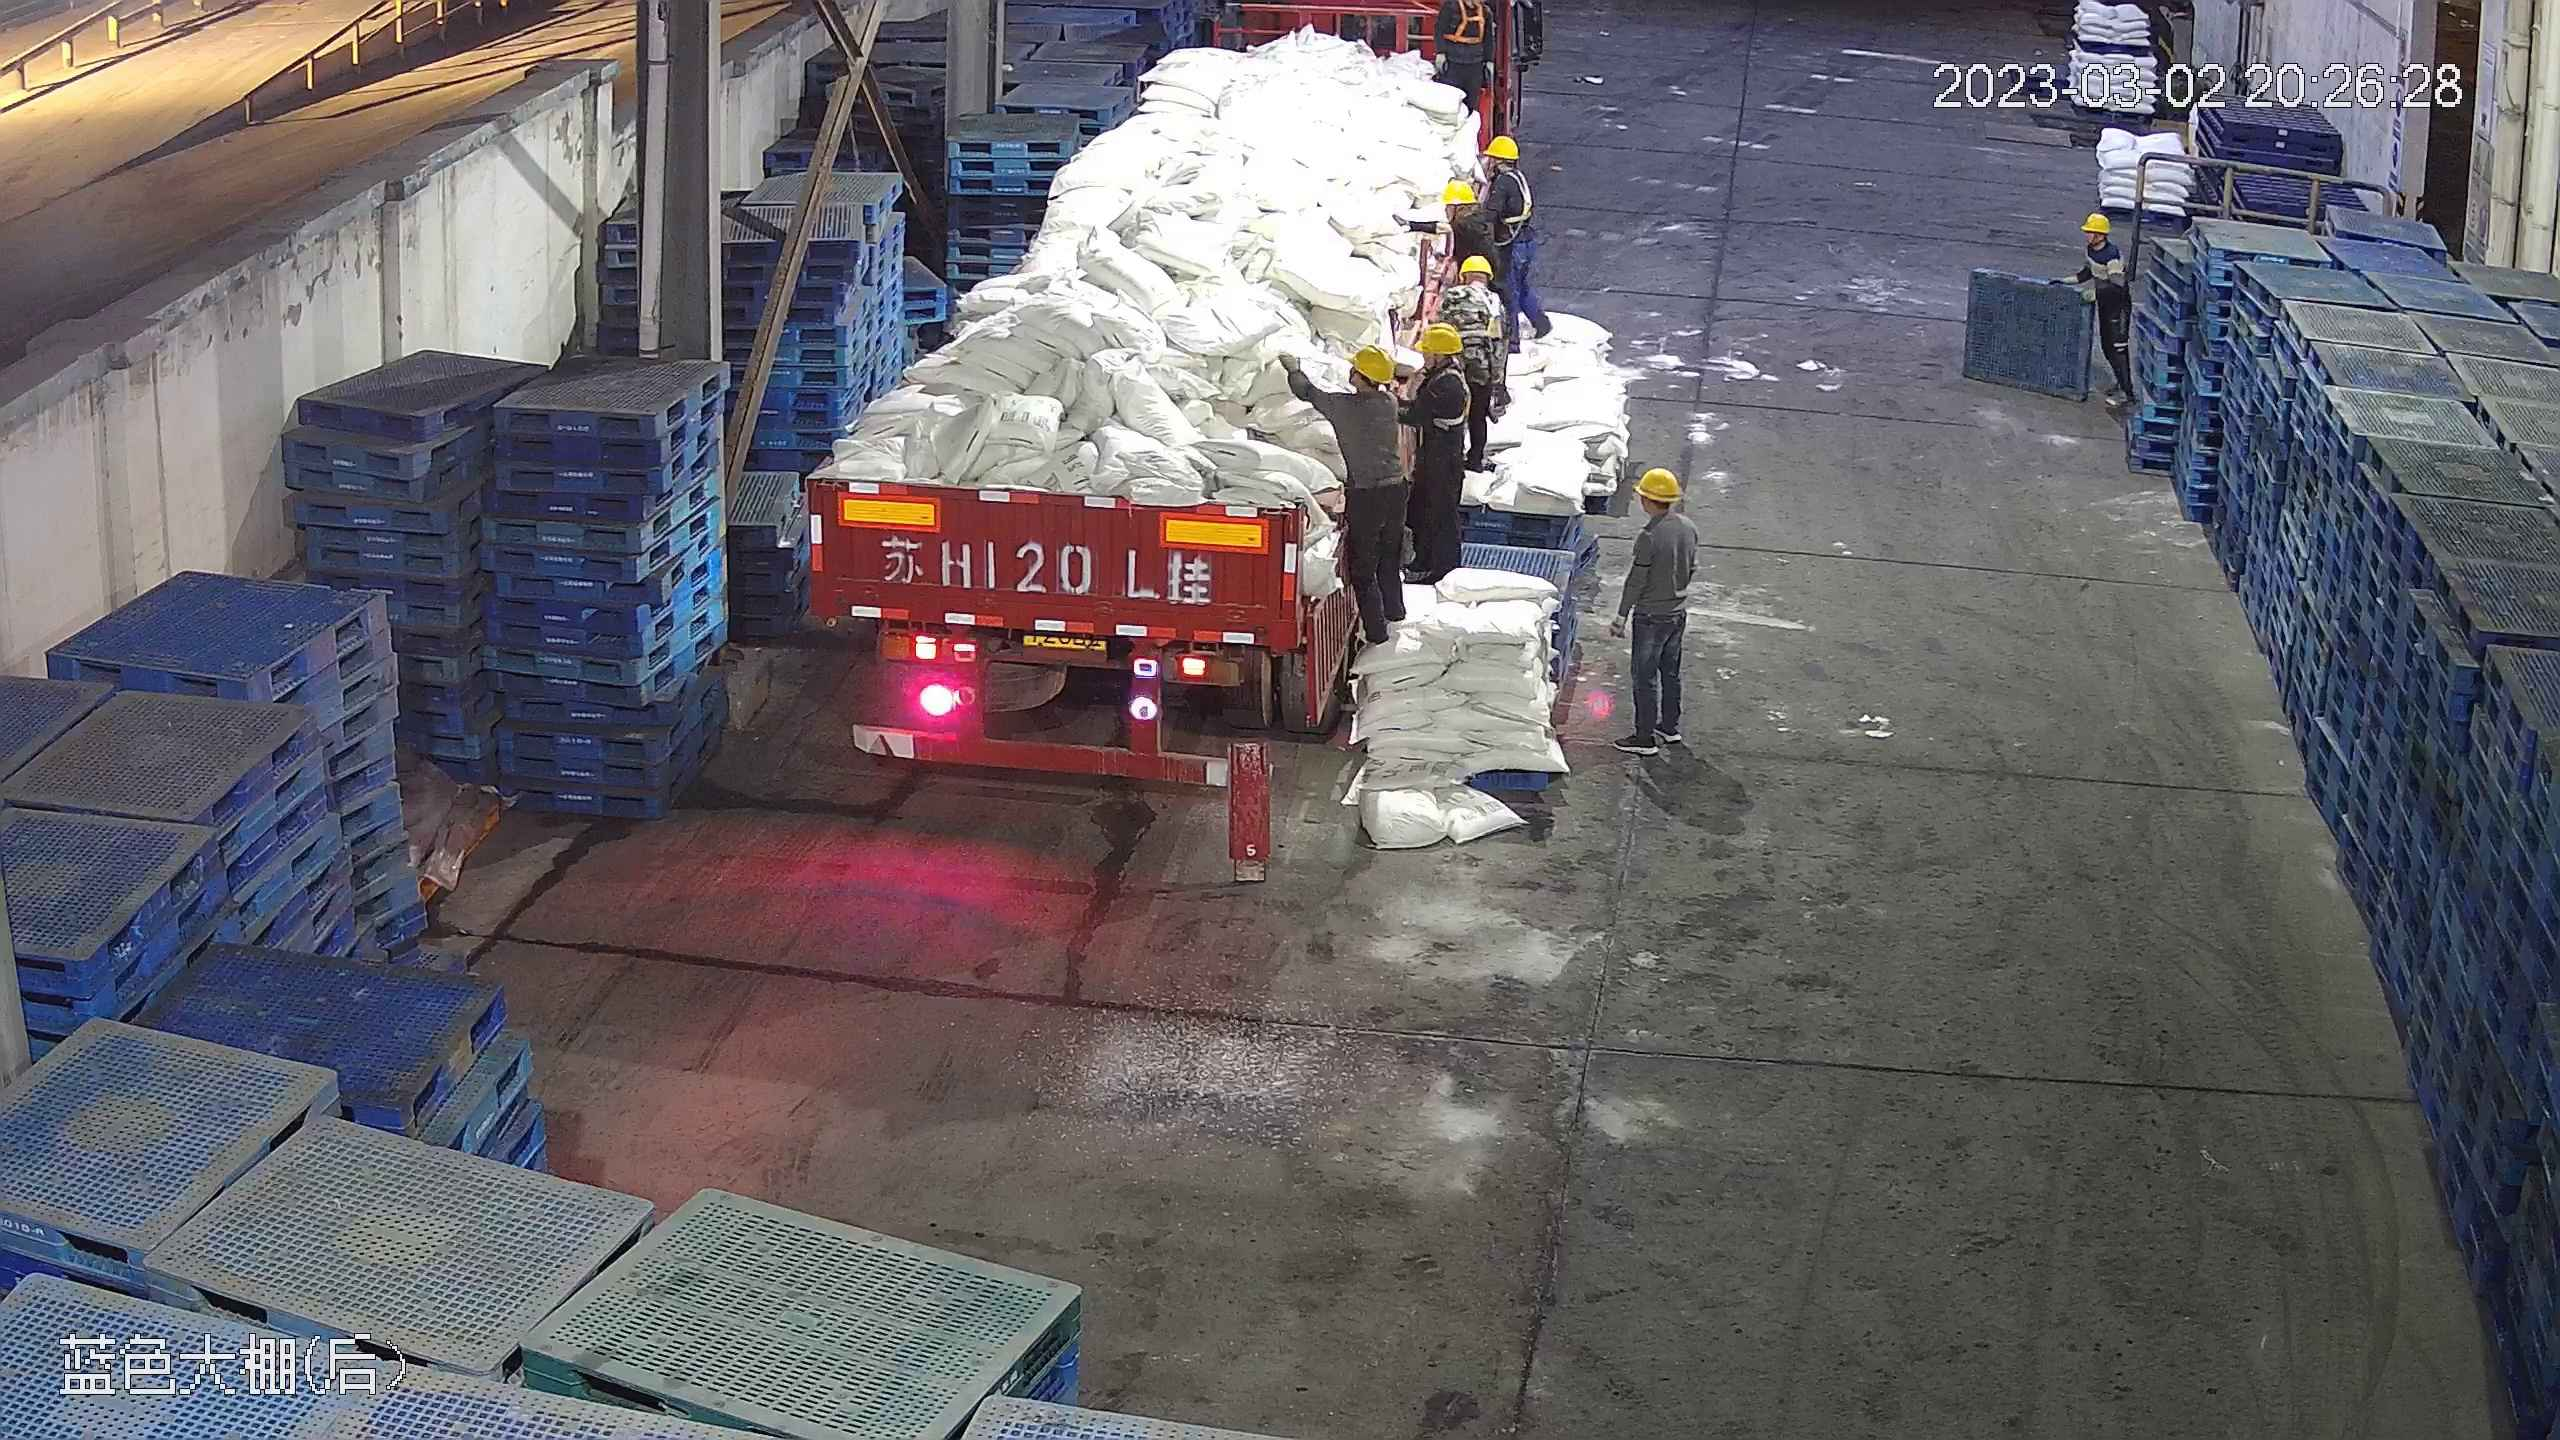belt: (1415, 365, 1474, 431), (1459, 281, 1506, 344), (1495, 164, 1540, 226), (1442, 2, 1492, 49)
head: (1324, 339, 1407, 437), (1627, 465, 1696, 561), (1404, 324, 1475, 411), (1432, 177, 1494, 246), (1444, 251, 1504, 316), (1482, 134, 1534, 203), (2077, 210, 2130, 272)
helmet: (1348, 342, 1396, 382), (1634, 465, 1680, 500), (1412, 321, 1462, 354), (1439, 172, 1483, 207), (2081, 210, 2113, 235), (1485, 135, 1519, 160)
people: (1288, 331, 1417, 660), (1618, 461, 1703, 754), (1393, 319, 1475, 593), (2072, 206, 2141, 421), (1482, 134, 1553, 347), (1455, 244, 1518, 471)
truck: (793, 1, 1530, 769)
